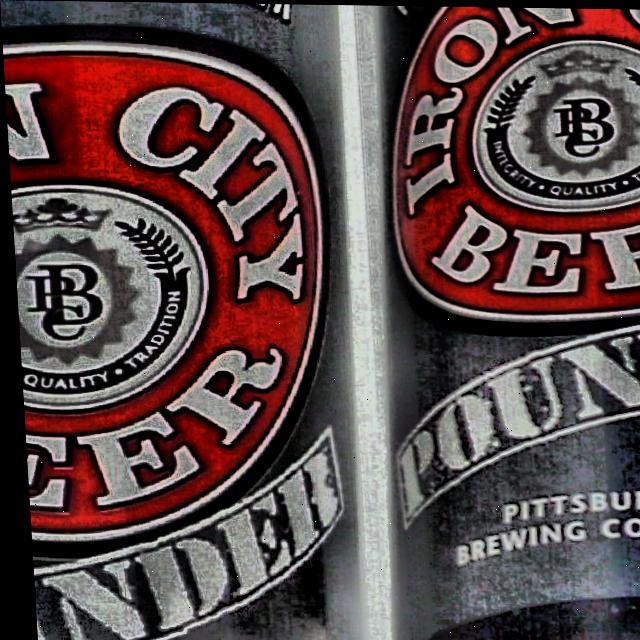metal: (0, 0, 377, 640), (343, 4, 640, 640)
